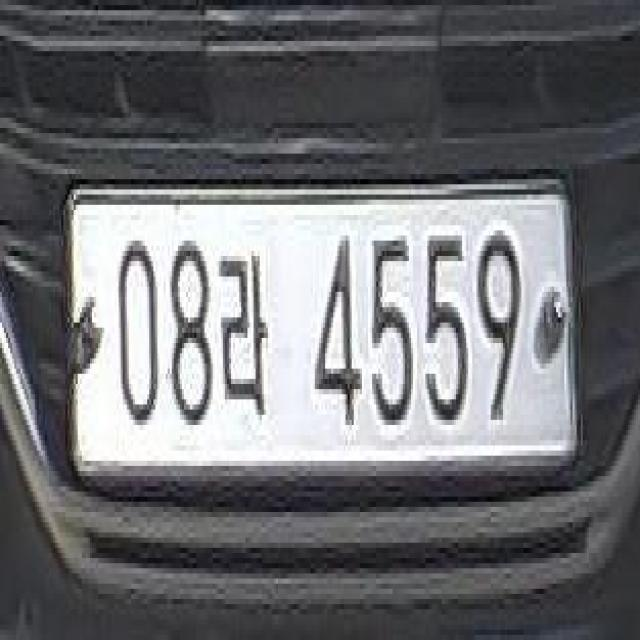illegal_plate: (72, 170, 580, 516)
